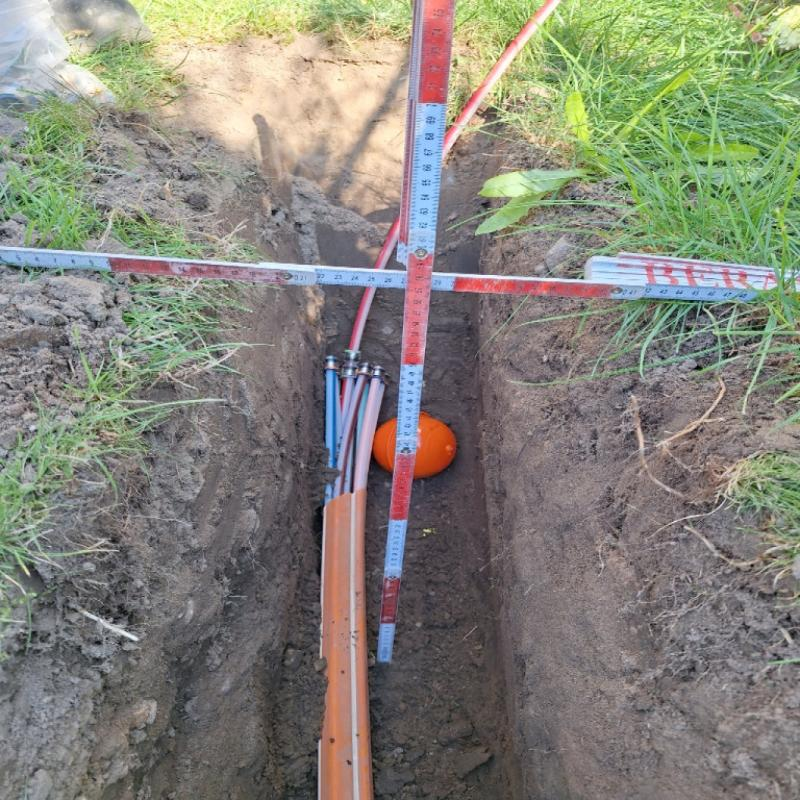Kugelmarker: (373, 410, 453, 478)
Orang-Speednetrohrchen: (320, 345, 391, 799)
